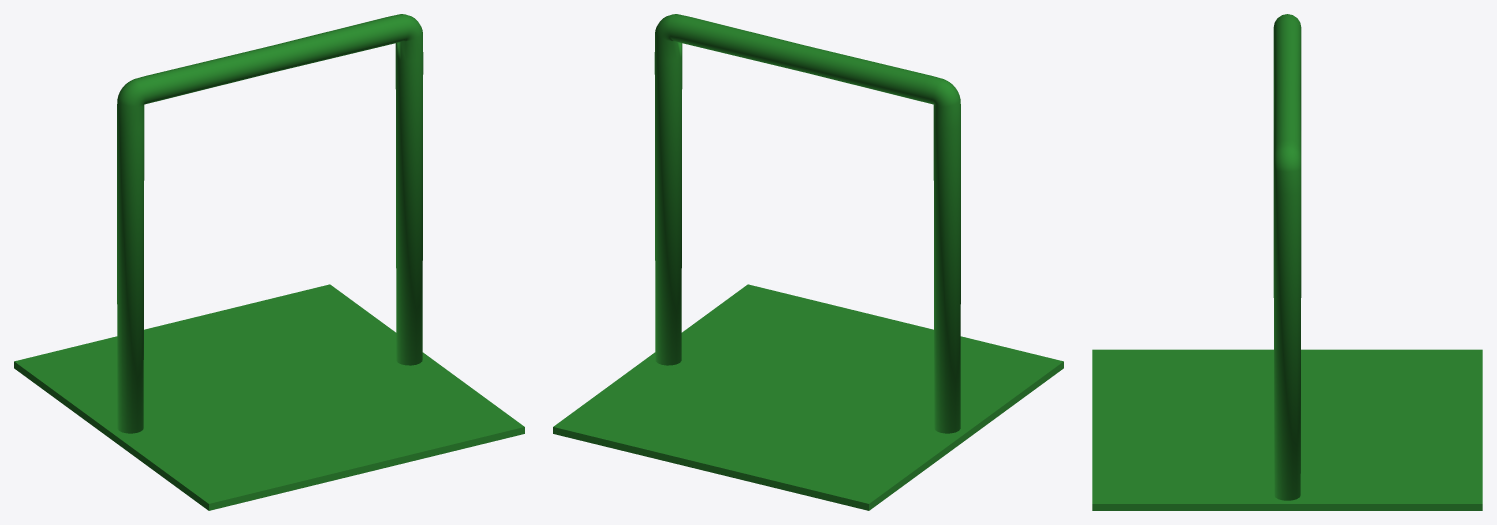
Rendered from asiento plataforma.fbx.
3 renders of one model, left to right at view 1: azimuth 30°, elevation 25°; view 2: azimuth 150°, elevation 25°; view 3: azimuth 270°, elevation 25°, orthographic.
Visible parts, largest first — view 1: soporte asiento 1; view 2: soporte asiento 1; view 3: soporte asiento 1.
Part boxes in pixels (<box>): soporte asiento 1: <box>14,14,524,510</box>; soporte asiento 1: <box>553,14,1063,510</box>; soporte asiento 1: <box>1092,14,1482,510</box>.
Size of the model in its own units: 194 by 208 by 208.
